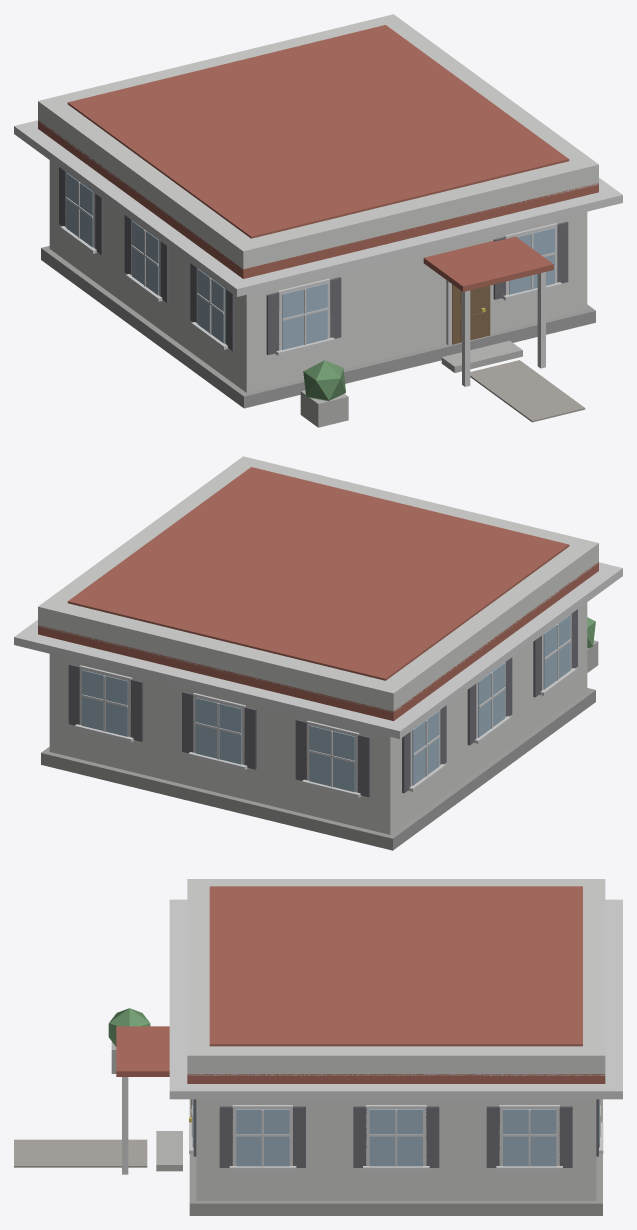
The model's file is Villa_03.glb.
3 views of the same model, one above another, from view 1: azimuth 30°, elevation 25°; view 2: azimuth 150°, elevation 25°; view 3: azimuth 270°, elevation 25° (orthographic).
Visible parts, largest first — view 1: Villa_03; view 2: Villa_03; view 3: Villa_03.
Boxes of the visible parts, x1=… form: Villa_03: x1=14, y1=14, x2=622, y2=427; Villa_03: x1=14, y1=456, x2=622, y2=850; Villa_03: x1=14, y1=879, x2=622, y2=1215.
Size of the model in its own units: 10.2 by 4.05 by 13.7.
